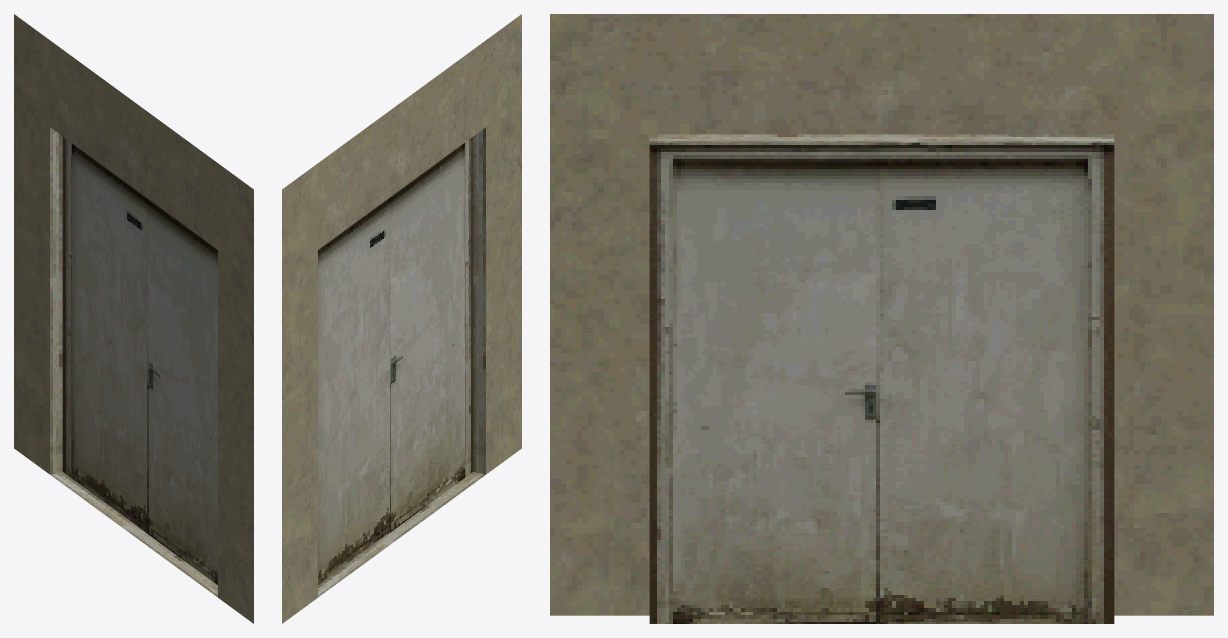
File: stuco_wall_old_door_indent.glb
3 views of the same model, side by side, from view 1: azimuth 30°, elevation 25°; view 2: azimuth 150°, elevation 25°; view 3: azimuth 270°, elevation 25° (orthographic). The views are drawn at different scales.
Visible parts, largest first — view 1: stuco_wall_old_door_indent; view 2: stuco_wall_old_door_indent; view 3: stuco_wall_old_door_indent.
Part boxes in pixels (x1,y1,x2,y2): stuco_wall_old_door_indent: (14,14,253,623); stuco_wall_old_door_indent: (282,14,521,623); stuco_wall_old_door_indent: (550,14,1213,623).
Size of the model in its own units: 0.0907 by 3 by 3.
1 material, 1 textured.
